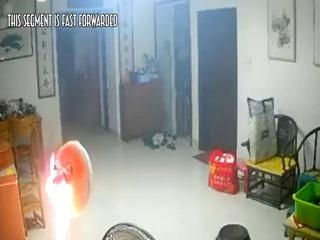Fire: (49, 165, 82, 239)
